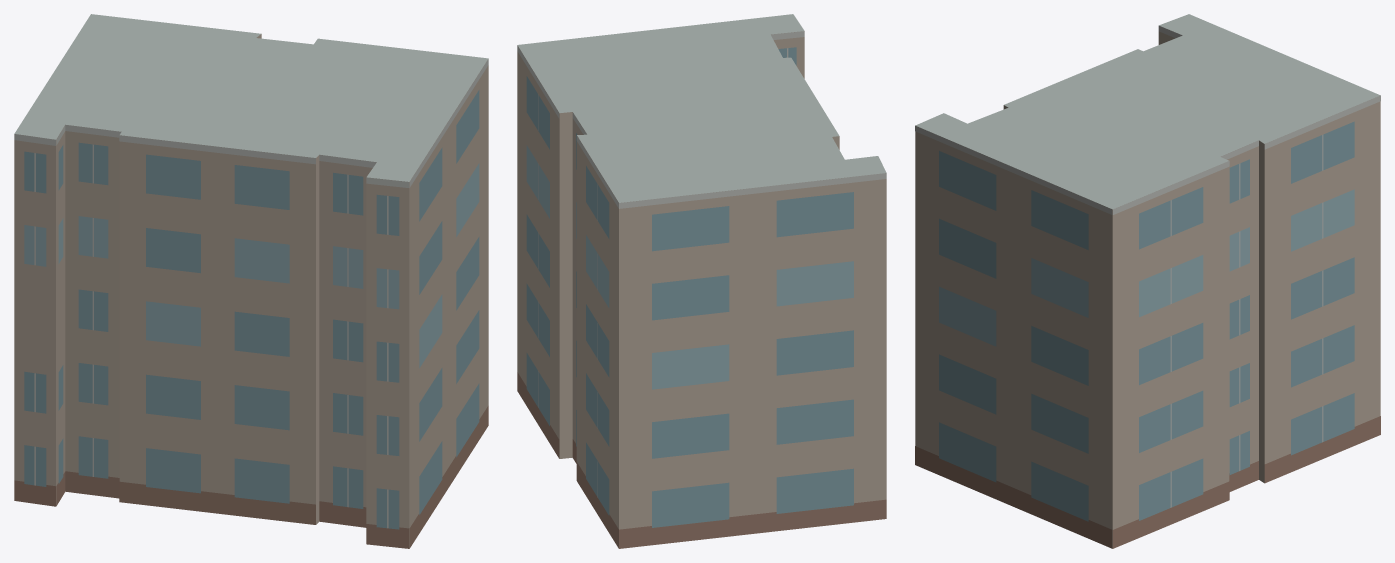
The model's file is survey-upis-32597805.glb.
The picture shows the model from 3 angles, left to right: view 1: azimuth 30°, elevation 25°; view 2: azimuth 150°, elevation 25°; view 3: azimuth 270°, elevation 25°; orthographic projection. The views are drawn at different scales.
Parts seen in each view (by area): view 1: survey-upis-32597805.tmp; view 2: survey-upis-32597805.tmp; view 3: survey-upis-32597805.tmp.
Boxes of the visible parts, x1,y1,x2,y2 form: survey-upis-32597805.tmp: (14,14,488,548); survey-upis-32597805.tmp: (517,14,886,548); survey-upis-32597805.tmp: (915,14,1380,548).
Bounding box in the file's own units: 17.62 × 14.26 × 17.73.
